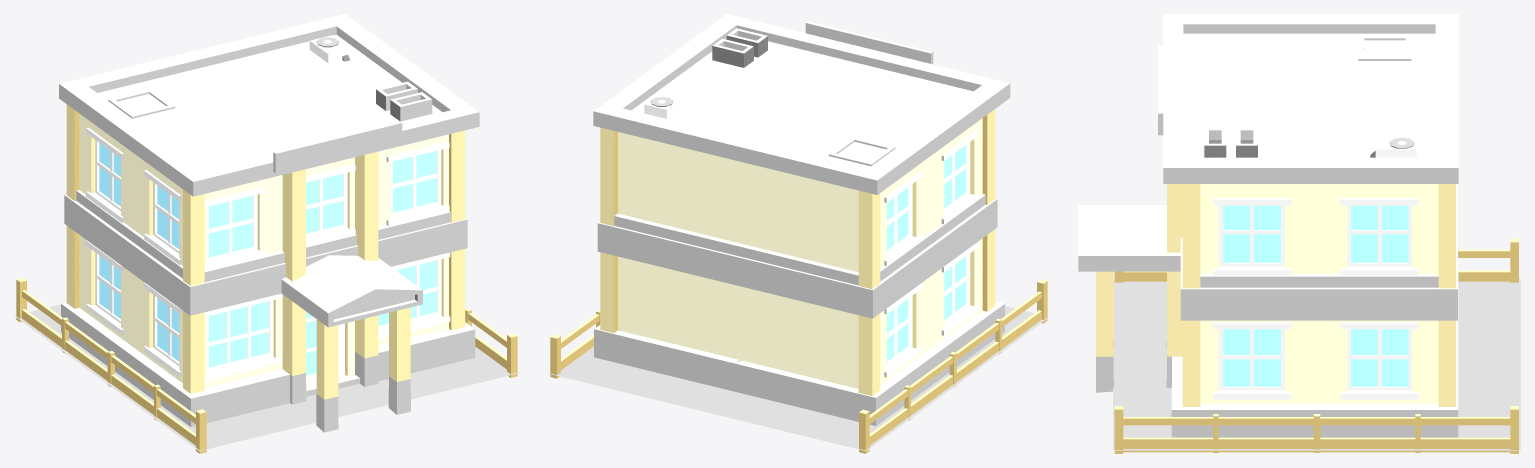
3 views of the same model, side by side, from view 1: azimuth 30°, elevation 25°; view 2: azimuth 150°, elevation 25°; view 3: azimuth 270°, elevation 25° (orthographic). The views are drawn at different scales.
Visible parts, largest first — view 1: bank.008 (1), tile_for_home_1x1.016 (19); view 2: bank.008 (1), tile_for_home_1x1.016 (19); view 3: bank.008 (1), tile_for_home_1x1.016 (19).
Boxes of the visible parts, x1,y1,x2,y2 form: bank.008 (1): (59,14,479,432); tile_for_home_1x1.016 (19): (14,277,519,453); bank.008 (1): (593,14,1010,425); tile_for_home_1x1.016 (19): (548,279,1048,453); bank.008 (1): (1078,14,1458,437); tile_for_home_1x1.016 (19): (1113,238,1520,453).
Size of the model in its own units: 8 by 6.27 by 8.69.
Materials: 1 (1 with a texture image).
